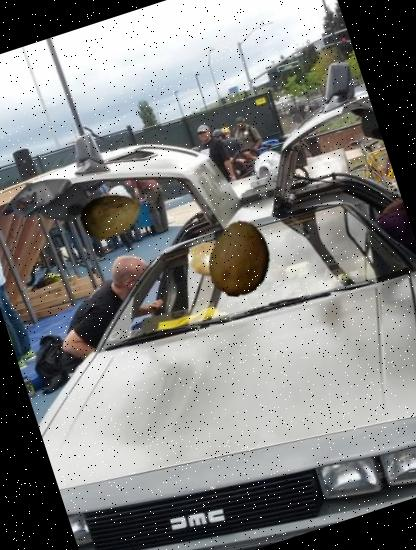Cactus: (179, 219, 257, 297)
Papaya: (192, 210, 288, 306), (72, 176, 151, 255)
